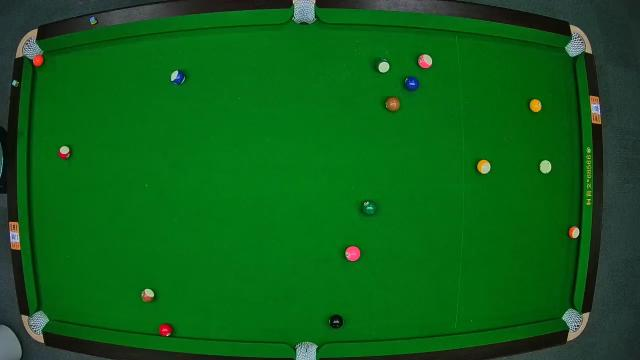bag1: (20, 40, 40, 61)
bag2: (292, 1, 316, 25)
bag3: (566, 35, 588, 55)
bag4: (28, 311, 48, 333)
bag5: (293, 340, 319, 360)
bag6: (562, 308, 582, 332)
ball0: (540, 160, 552, 174)
ball1: (529, 99, 543, 114)
ball10: (170, 68, 186, 86)
ball11: (57, 146, 71, 158)
ball12: (418, 53, 432, 69)
ball13: (568, 226, 580, 240)
ball14: (374, 58, 391, 74)
ball15: (141, 288, 155, 302)
ball2: (404, 76, 420, 90)
ball3: (158, 323, 174, 337)
ball4: (346, 246, 360, 262)
ball5: (32, 56, 44, 66)
ball6: (362, 200, 378, 216)
ball7: (386, 97, 400, 111)
ball8: (328, 314, 344, 330)
ball9: (477, 159, 491, 174)
